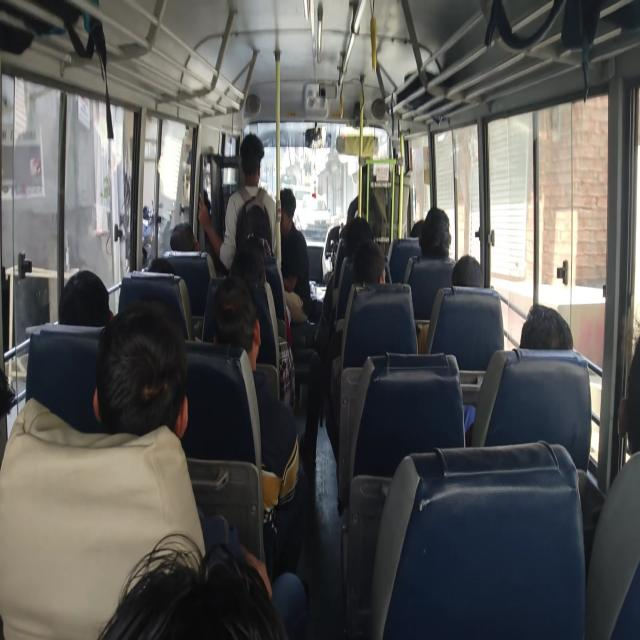person: (106, 304, 237, 525), (128, 512, 278, 640), (611, 339, 640, 500), (205, 289, 269, 361), (512, 295, 568, 351), (422, 194, 461, 266), (58, 272, 102, 334), (229, 250, 274, 306), (232, 128, 270, 193), (168, 212, 204, 264), (352, 246, 391, 291), (244, 237, 277, 287), (452, 254, 482, 306), (343, 224, 375, 257), (145, 256, 181, 282), (275, 189, 299, 223), (406, 202, 426, 242)
